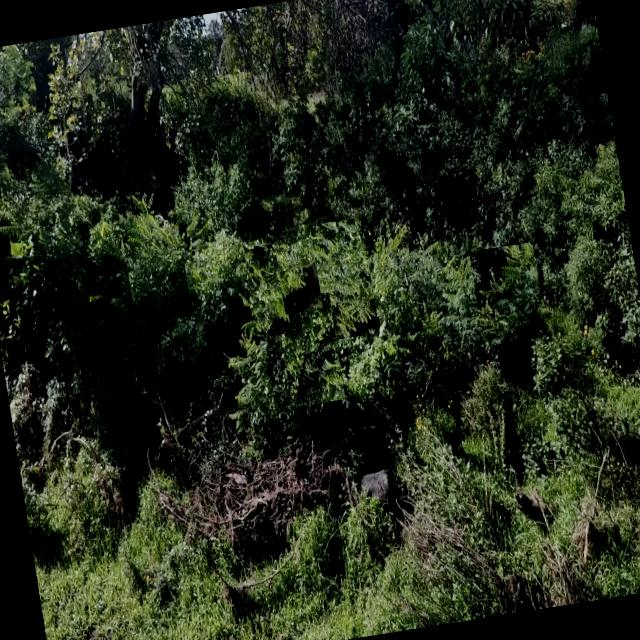Mysore-Thorn-Weed: (321, 213, 453, 421), (296, 218, 380, 344), (212, 325, 286, 461), (116, 185, 191, 312), (470, 242, 548, 346), (276, 293, 346, 408), (434, 239, 493, 370), (243, 235, 292, 338), (272, 223, 323, 314), (232, 280, 281, 346), (178, 207, 222, 268)
